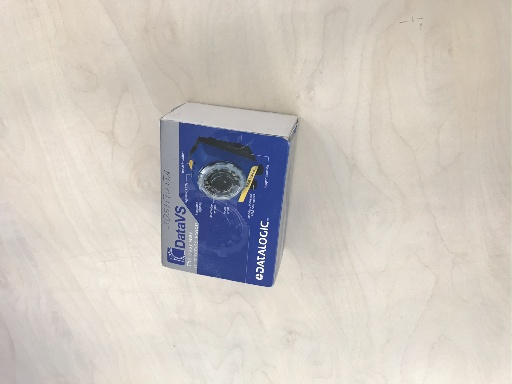Box: (155, 99, 303, 288)
